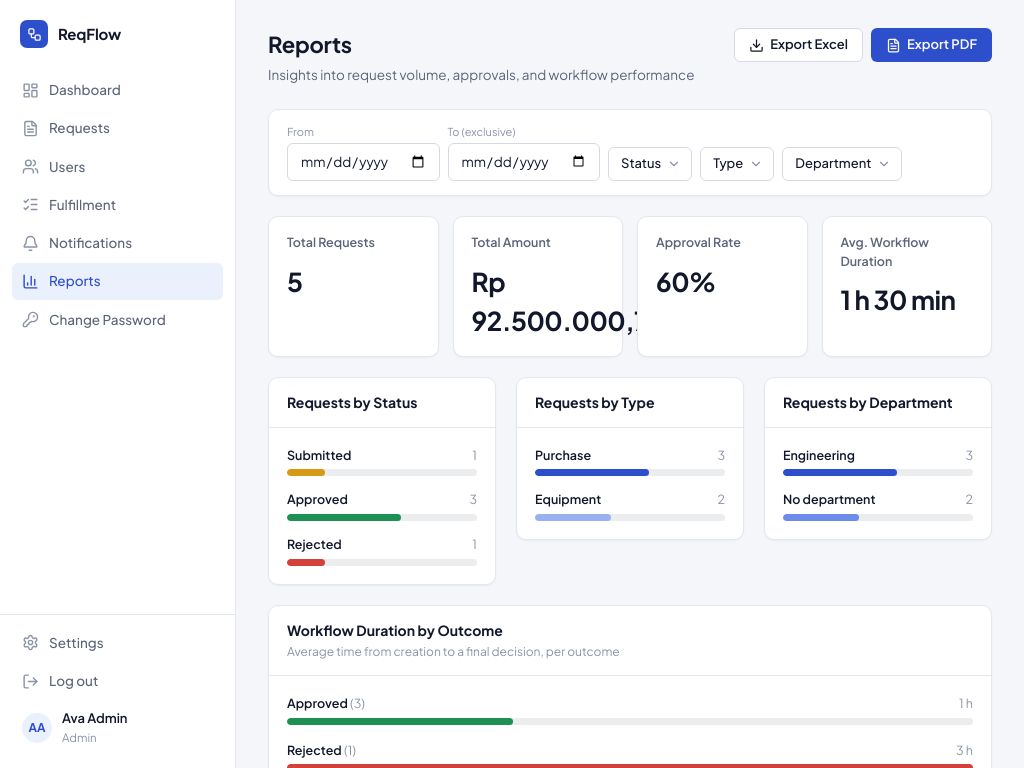
Test: ReportsPage › disables Export Excel while a previous export is still pending, so a duplicate click is prevented
Expected: the text "Total Requests" is shown, [287,233,375,252]
Click the button "Export Excel".
click(799, 45)  # box [734,28,863,62]
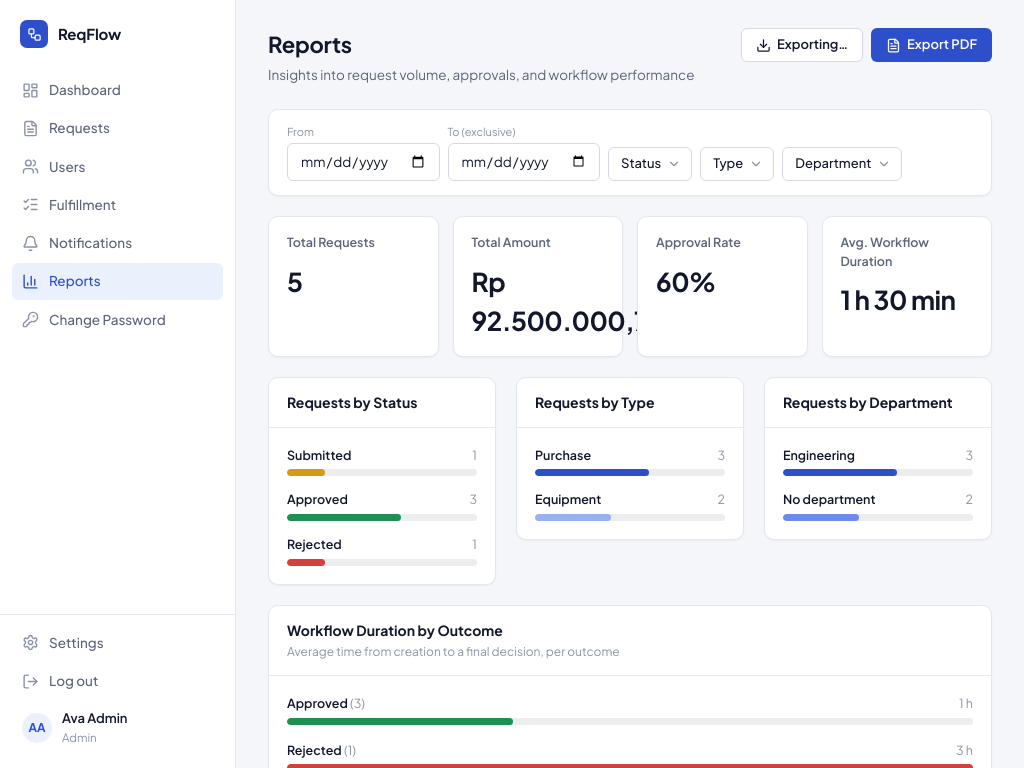
Expected: the button "Exporting…" is disabled, [741,28,863,62]
